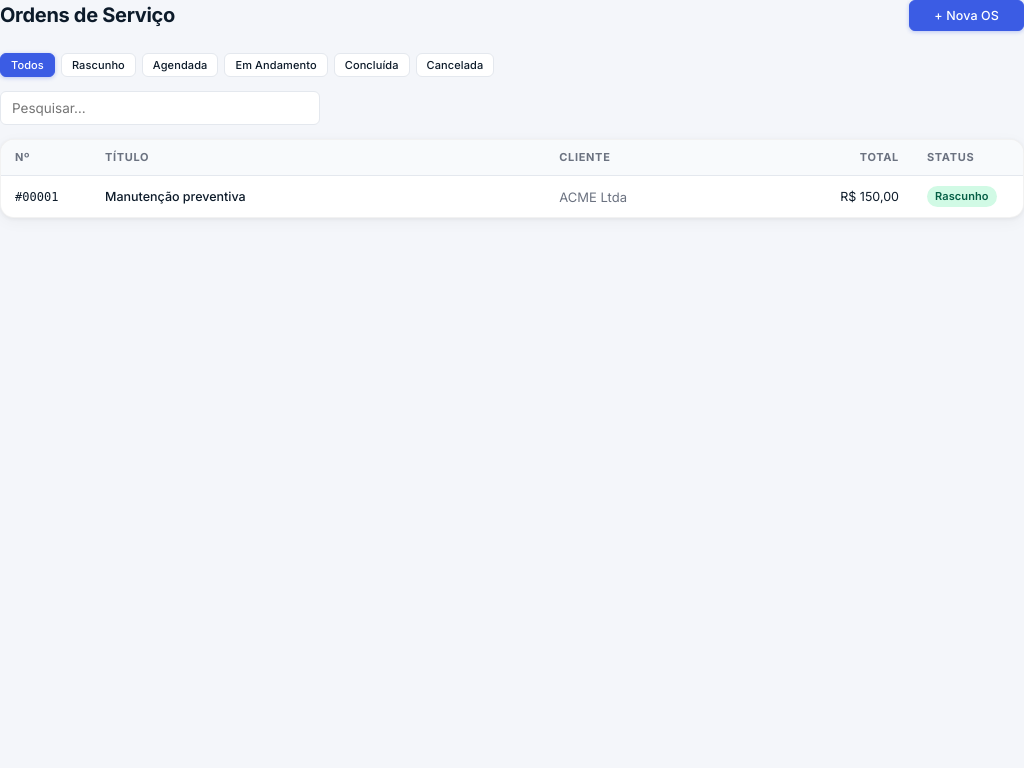
Test case: ServiceOrdersPage — edição de OS (regra: editável só em draft) › OS agendada (scheduled) NÃO mostra o botão Editar
Click the text "#00001": point(19, 197) top-left (15, 190), bottom-right (58, 204)
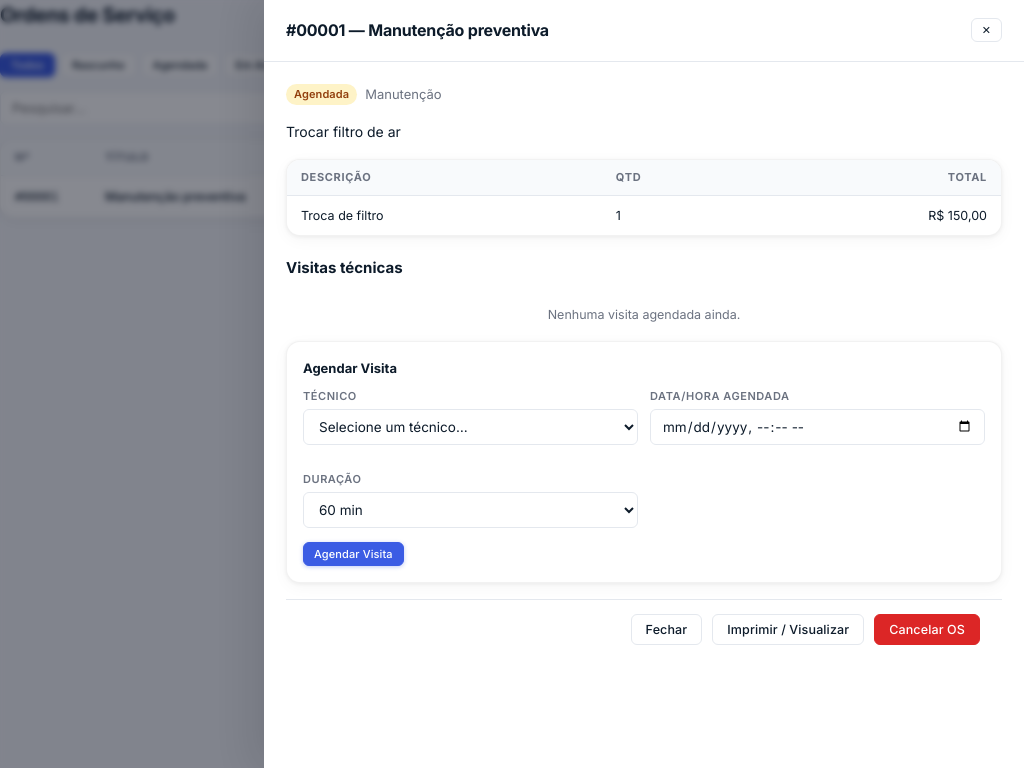
expect the text "Trocar filtro de ar" is shown: met, box top-left (286, 123), bottom-right (401, 140)
